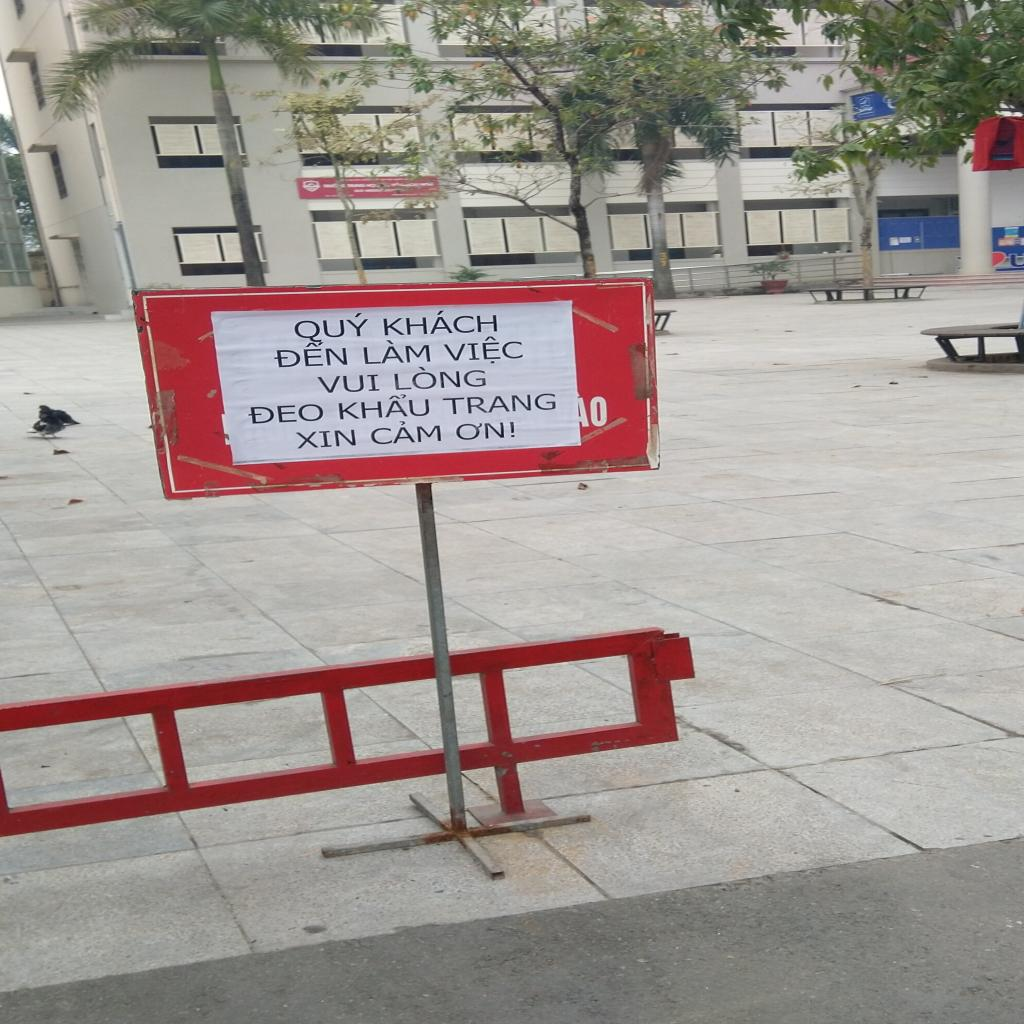text: (379, 307, 500, 337), (440, 391, 559, 416), (334, 392, 433, 421), (438, 334, 526, 366), (291, 311, 372, 344), (390, 365, 489, 391), (272, 342, 350, 370), (367, 418, 445, 446), (360, 337, 433, 365), (246, 402, 329, 426), (293, 428, 359, 450), (452, 420, 518, 442), (314, 373, 382, 394), (586, 394, 610, 429), (658, 252, 669, 267)
